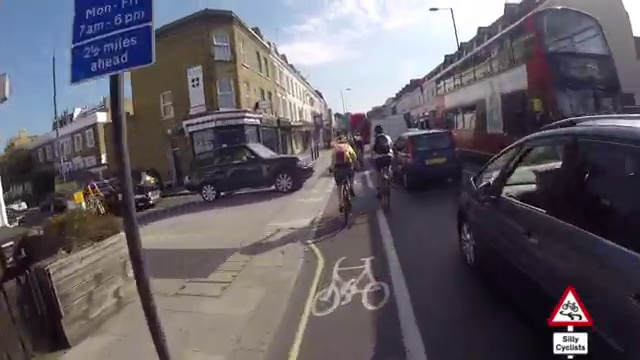cyclist_back: (368, 122, 400, 213), (329, 134, 360, 222)
